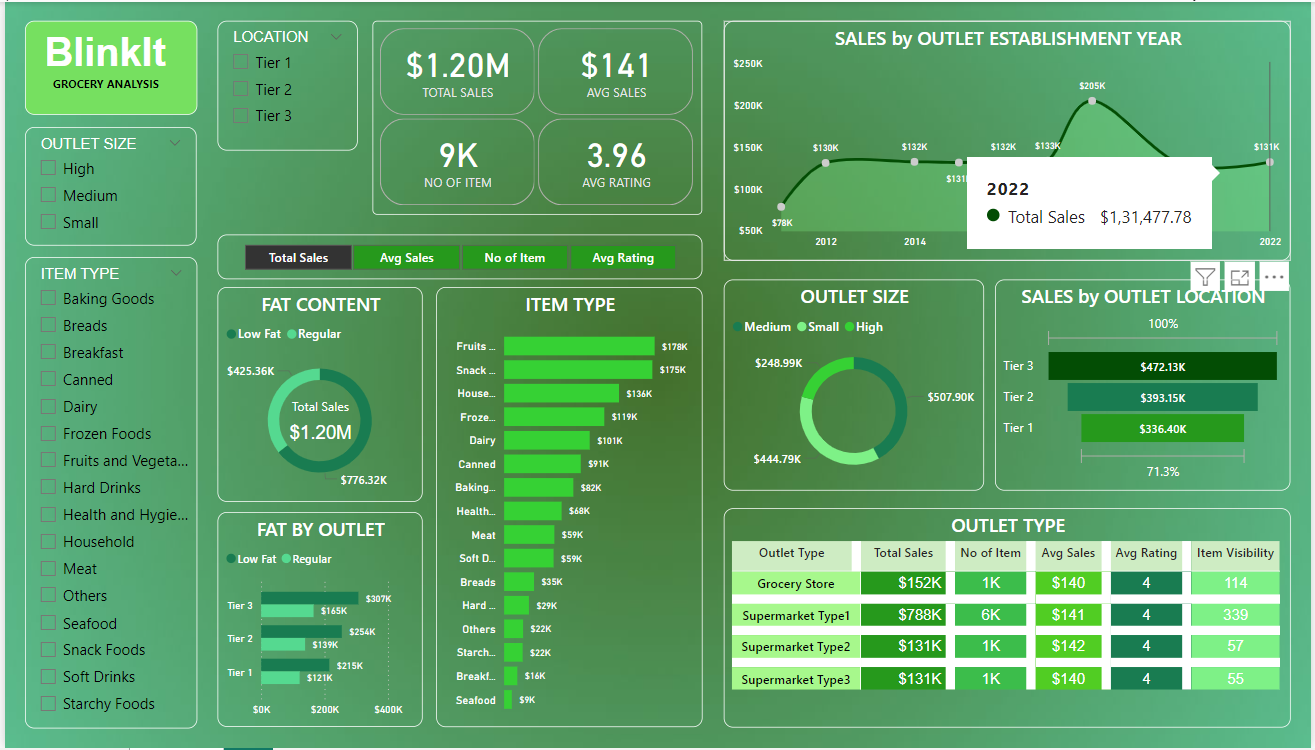

The page's visual inventory and layout, read from the dashboard file:
{"tool":"powerbi","page":{"name":"Page 1","canvas":[1400,800],"ordinal":0},"visuals":[{"type":"textbox","box":[21.4,20.1,185,100.5],"z":0},{"type":"slicer","fields":{"Values":["metrics.metrics"]},"box":[227.9,249.3,520.1,48.3],"z":2000},{"type":"donutChart","title":"FAT CONTENT","fields":{"Y":["blinkit_grocery_data.Total Sales"],"Category":["blinkit_grocery_data.Item Fat Content"]},"box":[227.9,305.6,219.8,230.6],"z":3000},{"type":"cardVisual","fields":{"Data":["blinkit_grocery_data.Total Sales"]},"box":[282.8,407.5,111.3,79.1],"z":4000},{"type":"clusteredBarChart","title":"FAT BY OUTLET","fields":{"Y":["blinkit_grocery_data.Total Sales"],"Category":["blinkit_grocery_data.Outlet Location Type"],"Series":["blinkit_grocery_data.Item Fat Content"]},"box":[227.9,546.9,219.8,230.6],"z":5000},{"type":"barChart","title":"ITEM TYPE","fields":{"Y":["blinkit_grocery_data.Total Sales"],"Category":["blinkit_grocery_data.Item Type"]},"box":[462.5,305.6,285.5,471.9],"z":6000},{"type":"lineChart","title":"SALES by OUTLET ESTABLISHMENT YEAR","fields":{"Y":["blinkit_grocery_data.Total Sales"],"Category":["blinkit_grocery_data.Outlet Establishment Year"]},"box":[770.2,20.3,608,257.2],"z":7000},{"type":"donutChart","title":"OUTLET SIZE","fields":{"Y":["blinkit_grocery_data.Total Sales"],"Category":["blinkit_grocery_data.Outlet Size"]},"box":[770.2,297.8,279.1,226.1],"z":8000},{"type":"funnel","title":"SALES by OUTLET LOCATION","fields":{"Category":["blinkit_grocery_data.Outlet Location Type"],"Y":["blinkit_grocery_data.Total Sales"]},"box":[1061.7,297.8,316.5,226.1],"z":9000},{"type":"pivotTable","title":"OUTLET TYPE","fields":{"Rows":["blinkit_grocery_data.Outlet Type"],"Values":["blinkit_grocery_data.Total Sales","blinkit_grocery_data.No of Item","blinkit_grocery_data.Avg Sales","blinkit_grocery_data.Avg Rating","Sum(blinkit_grocery_data.Item Visibility)"]},"box":[770.2,542.5,608,235.4],"z":10000},{"type":"slicer","title":"FAT CONTENT","fields":{"Values":["blinkit_grocery_data.Outlet Location Type"]},"box":[227.9,20.1,150.1,139.4],"z":11000},{"type":"slicer","title":"FAT CONTENT","fields":{"Values":["blinkit_grocery_data.Outlet Size"]},"box":[21.4,134,183.6,127.3],"z":12000},{"type":"slicer","title":"FAT CONTENT","fields":{"Values":["blinkit_grocery_data.Item Type"]},"box":[21.4,273.5,185,505.4],"z":13000},{"type":"cardVisual","fields":{"Data":["blinkit_grocery_data.Total Sales","blinkit_grocery_data.Avg Sales","blinkit_grocery_data.No of Item","blinkit_grocery_data.Avg Rating"]},"box":[394.1,20.1,353.9,207.8],"z":13001}]}

Visuals, with their boxes in screenshot pixels (x1, y1, x2, y2), scaled from the page's 1400x800 canvas onto the 1315x750 screenshot:
textbox: rect(20, 19, 194, 113)
slicer - metrics.metrics: rect(214, 234, 703, 279)
"FAT CONTENT" donutChart: rect(214, 286, 421, 503)
cardVisual - blinkit_grocery_data.Total Sales: rect(266, 382, 370, 456)
"FAT BY OUTLET" clusteredBarChart: rect(214, 513, 421, 729)
"ITEM TYPE" barChart: rect(434, 286, 703, 729)
"SALES by OUTLET ESTABLISHMENT YEAR" lineChart: rect(723, 19, 1295, 260)
"OUTLET SIZE" donutChart: rect(723, 279, 986, 491)
"SALES by OUTLET LOCATION" funnel: rect(997, 279, 1295, 491)
"OUTLET TYPE" pivotTable: rect(723, 509, 1295, 729)
"FAT CONTENT" slicer: rect(214, 19, 355, 150)
"FAT CONTENT" slicer: rect(20, 126, 193, 245)
"FAT CONTENT" slicer: rect(20, 256, 194, 730)
cardVisual - blinkit_grocery_data.Total Sales x blinkit_grocery_data.Avg Sales: rect(370, 19, 703, 214)
